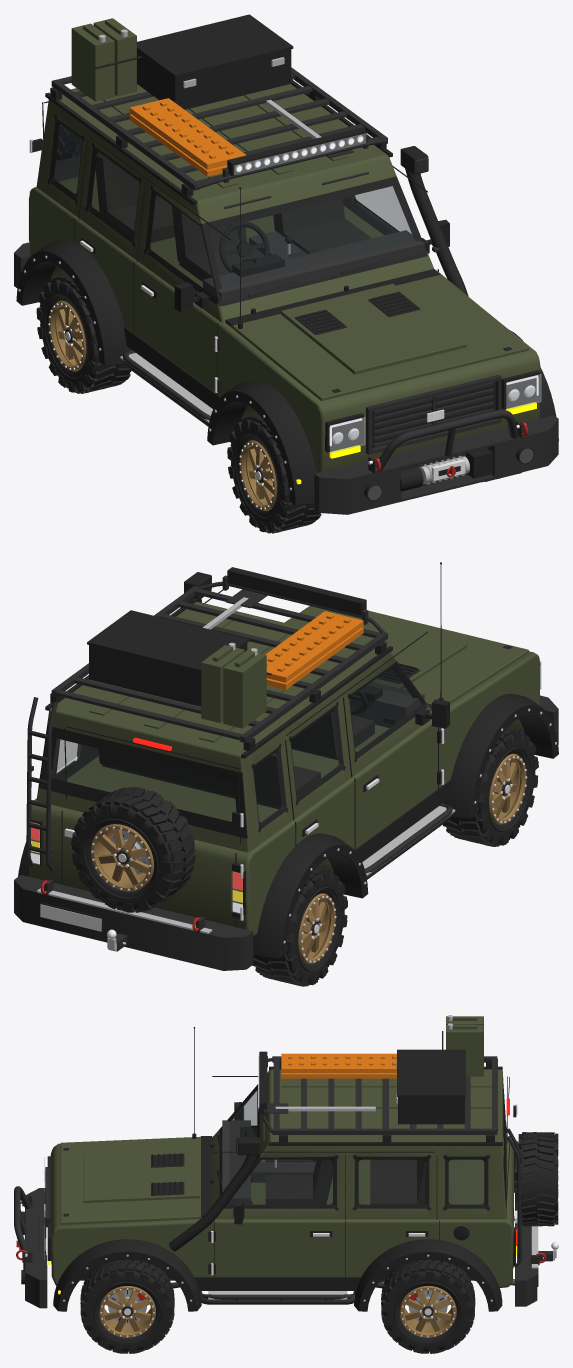
The model's file is offroad.glb.
The picture shows the model from 3 angles, top to bottom: view 1: azimuth 30°, elevation 25°; view 2: azimuth 150°, elevation 25°; view 3: azimuth 270°, elevation 25°; orthographic projection. The views are drawn at different scales.
Visible parts, largest first — view 1: Cabin, Roof_Rack, Body_Shell, Hood, Interior, Bumper_Front, Fender_Flares, Body_Trim, Front_Fascia, Wheel_RL, Wheel_FL, Snorkel (+3 smaller); view 2: Cabin, Roof_Rack, Body_Shell, Wheel_Spare, Fender_Flares, Bumper_Rear, Interior, Hood, Body_Trim, Wheel_RL, Wheel_FL, Ladder (+2 smaller); view 3: Cabin, Body_Shell, Roof_Rack, Hood, Body_Trim, Interior, Fender_Flares, Wheel_FR, Wheel_RR, Wheel_Spare, Bumper_Front, Rock_Sliders (+4 smaller).
Boxes of the visible parts, box(x1,y1,x2,y2) form: Cabin: box(36, 84, 434, 322); Roof_Rack: box(50, 14, 387, 196); Body_Shell: box(29, 172, 540, 472); Hood: box(230, 275, 528, 400); Interior: box(54, 152, 424, 302); Bumper_Front: box(314, 409, 558, 514); Fender_Flares: box(16, 240, 558, 505); Body_Trim: box(29, 79, 449, 408); Front_Fascia: box(325, 370, 541, 458); Wheel_RL: box(36, 275, 131, 393); Wheel_FL: box(227, 414, 321, 533); Snorkel: box(400, 146, 468, 296); Cabin: box(36, 601, 431, 852); Roof_Rack: box(50, 567, 387, 751); Body_Shell: box(30, 606, 540, 936); Wheel_Spare: box(71, 787, 195, 912); Fender_Flares: box(18, 693, 558, 958); Bumper_Rear: box(14, 875, 253, 970); Interior: box(51, 665, 424, 809); Hood: box(285, 606, 528, 704); Body_Trim: box(45, 589, 451, 927); Wheel_RL: box(252, 867, 347, 986); Wheel_FL: box(442, 728, 538, 846); Ladder: box(26, 697, 57, 871); Cabin: box(212, 1069, 506, 1219); Body_Shell: box(50, 1138, 513, 1287); Roof_Rack: box(258, 1015, 497, 1142); Hood: box(60, 1136, 202, 1224); Body_Trim: box(194, 1066, 517, 1290); Interior: box(222, 1090, 503, 1204); Fender_Flares: box(53, 1239, 502, 1311); Wheel_FR: box(80, 1259, 174, 1353); Wheel_RR: box(381, 1259, 475, 1353); Wheel_Spare: box(518, 1132, 558, 1226); Bumper_Front: box(14, 1186, 47, 1308); Rock_Sliders: box(200, 1291, 355, 1304).
Bounding box in the file's own units: 2.22 × 2.59 × 4.89.
